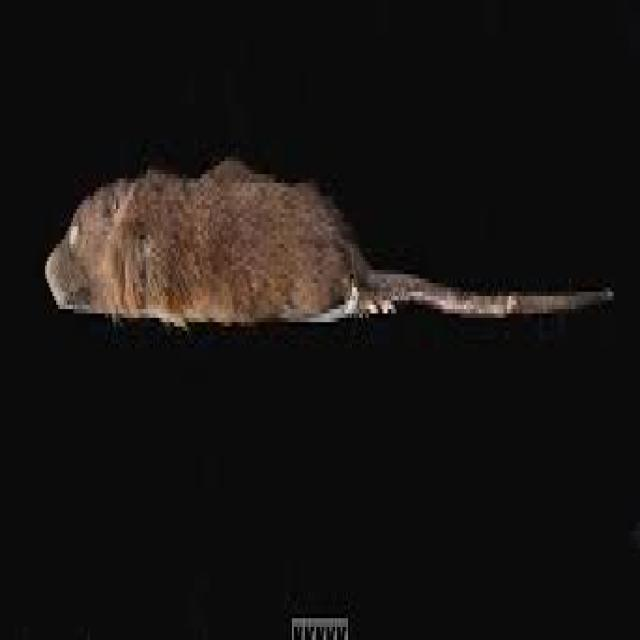rat: (43, 152, 614, 331)
